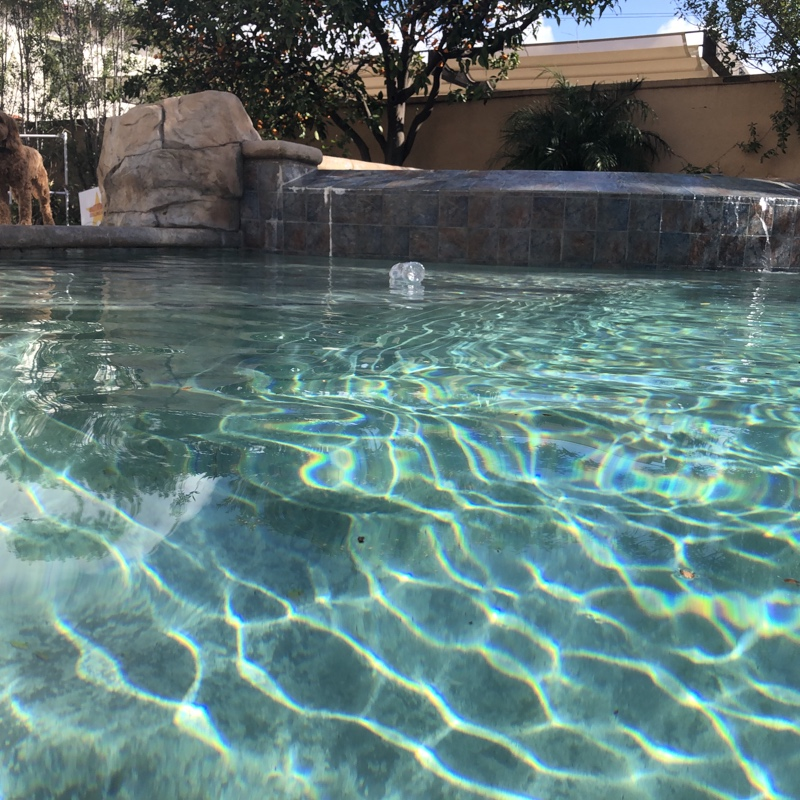Plastic Bottle: (384, 257, 426, 286)
